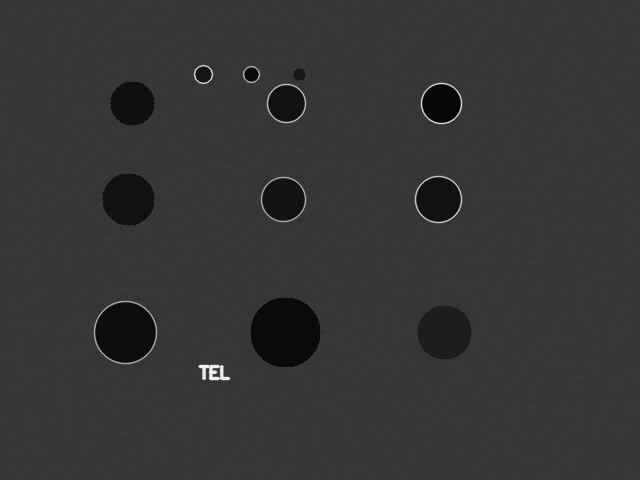hole: (250, 297, 320, 367), (94, 301, 156, 363), (417, 305, 471, 359), (102, 173, 154, 225), (415, 176, 461, 222), (110, 81, 154, 125), (261, 177, 305, 221), (421, 83, 461, 123), (267, 84, 305, 122), (194, 65, 212, 83), (243, 66, 259, 82), (293, 68, 305, 80)
